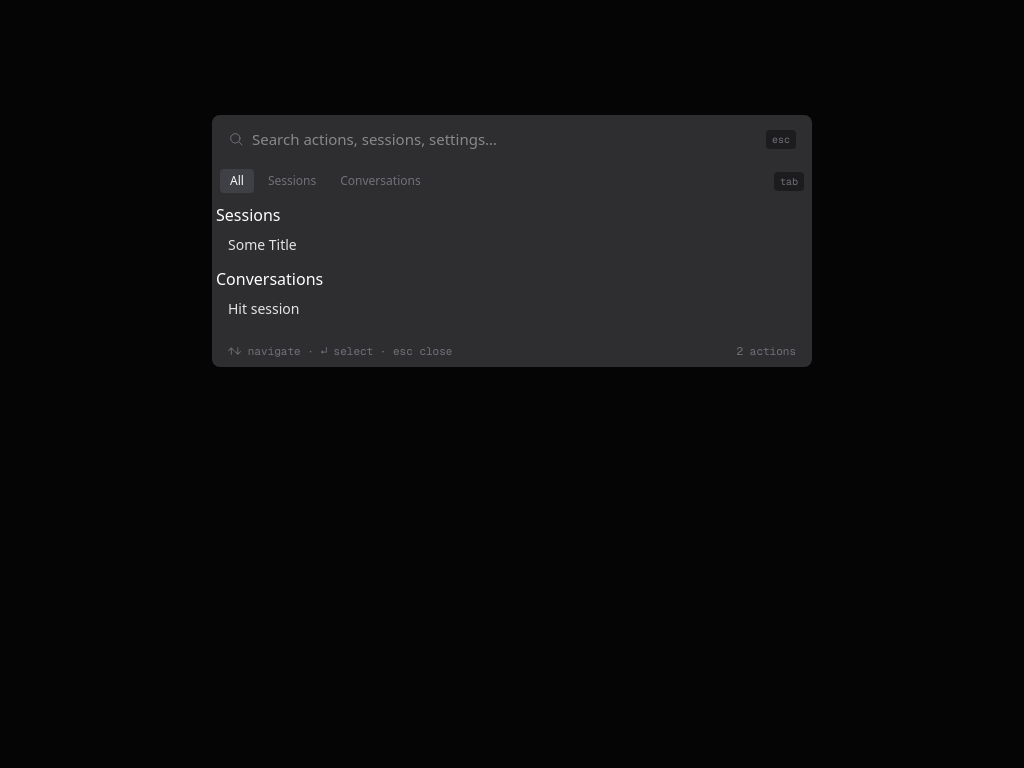
Scenario: CommandPalette › keeps conversation hits even when the query does not match their text
Type "zzzznomatch" into the dropdown with placeholder "Search actions, sessions, settings…" at (505, 139), box 252,128 -> 758,150
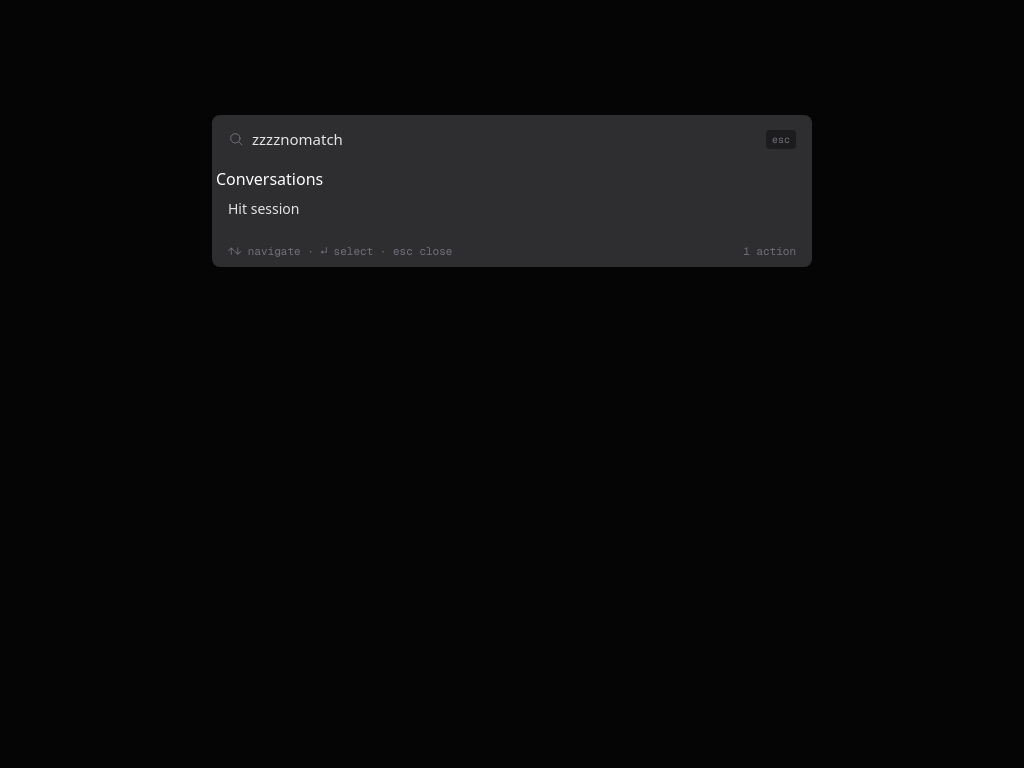
Expected: the text "Hit session" is shown, 228,199 -> 299,219
Expected: the option "Some Title" is gone
